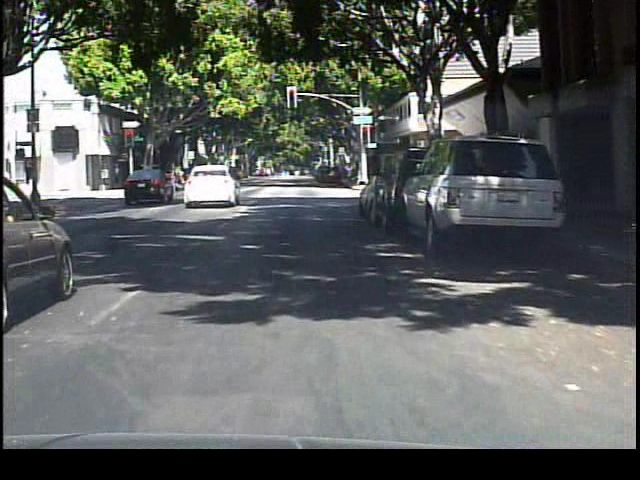person: (172, 161, 188, 200)
